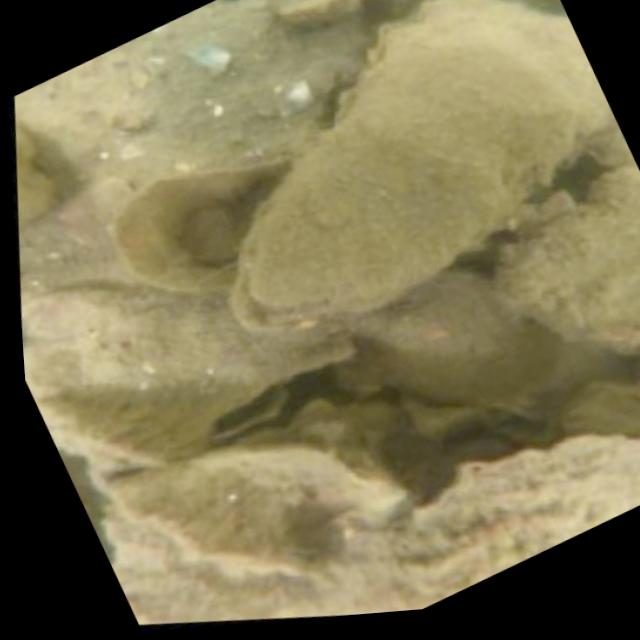Oyster-Closed: (364, 278, 562, 408), (34, 396, 217, 470)
Oyster-Indeterminate: (221, 30, 580, 326), (92, 435, 640, 624), (29, 288, 350, 458), (39, 0, 368, 148), (104, 155, 297, 300), (497, 166, 640, 359)
